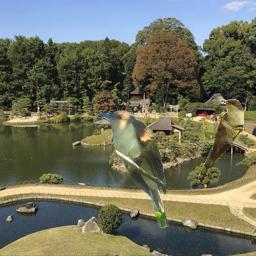Cuckoo: (95, 109, 171, 234), (198, 99, 244, 184)
